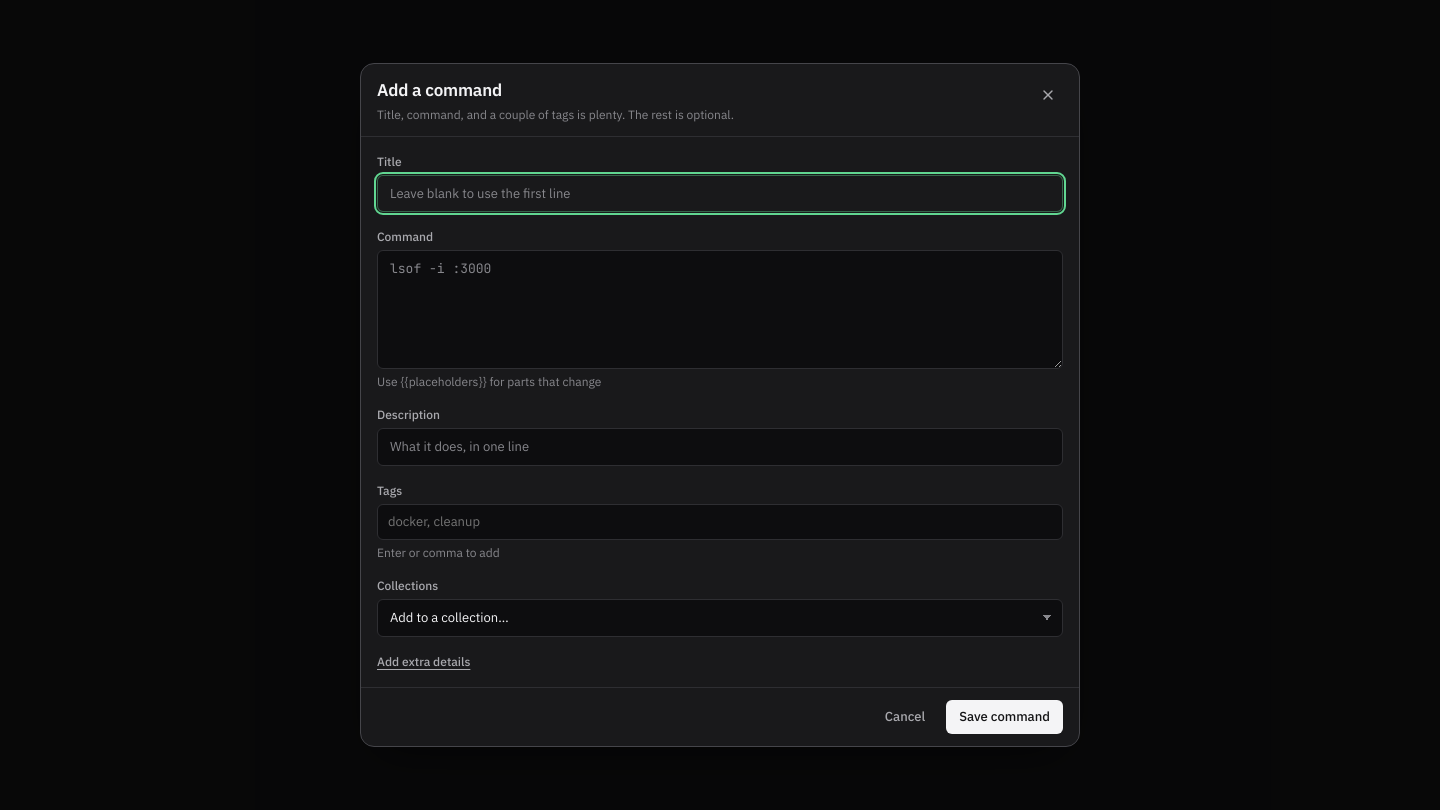
CommandForm › refuses to save an empty command and says why
Step 1. Click the button "Save command" → (1005,717), box x1=946 y1=700 x2=1063 y2=734
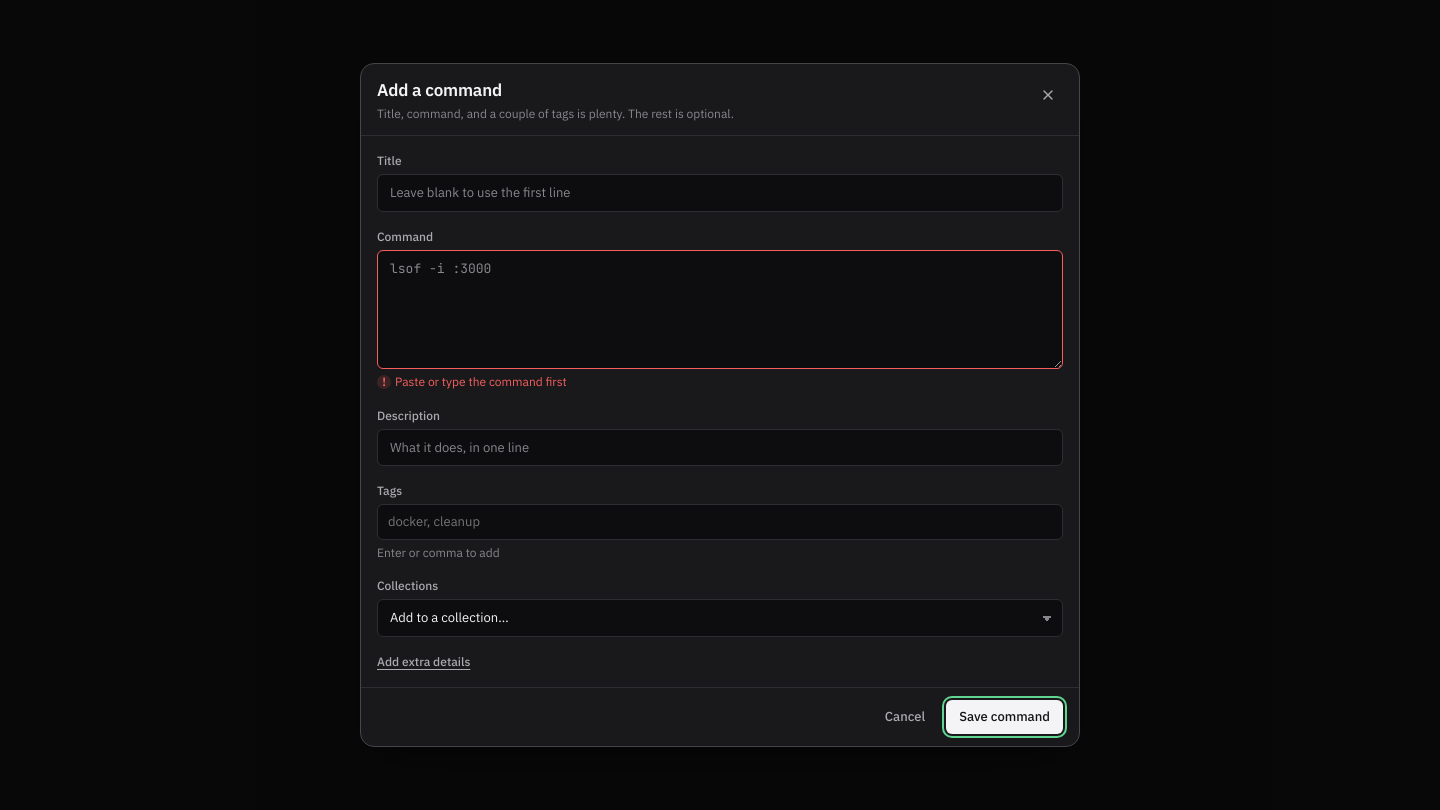
Expected: the text "Paste or type the command first" is shown, x1=395 y1=374 x2=567 y2=388
